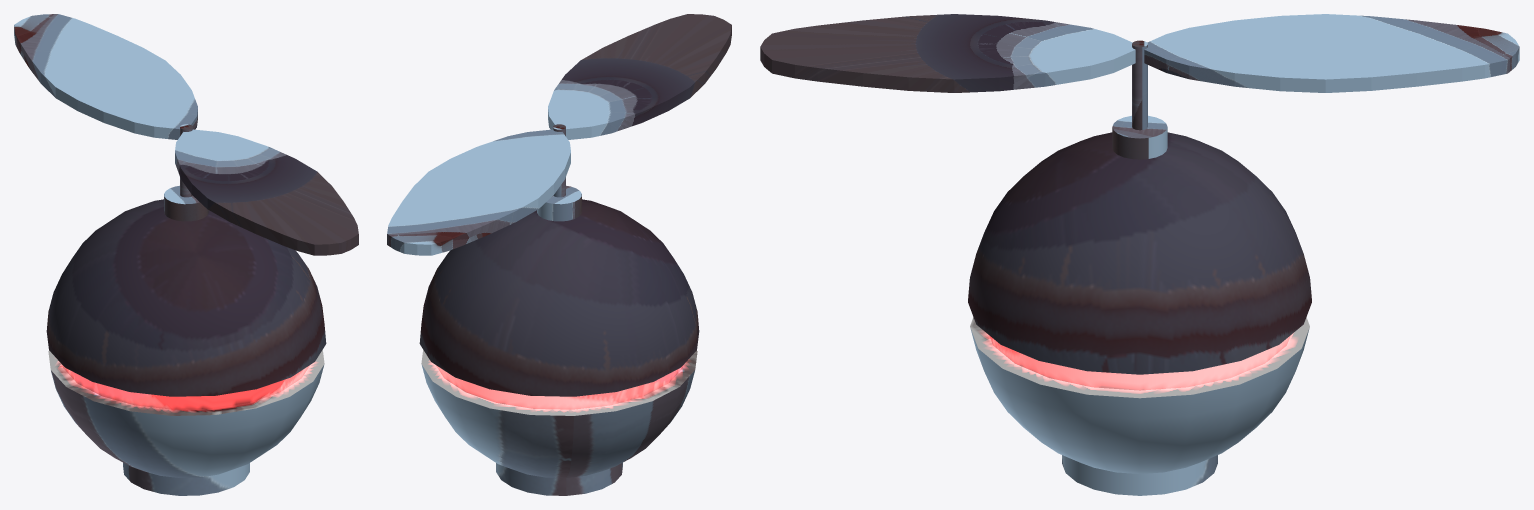
Rendered from Enemy1.gltf.
3 renders of one model, left to right at view 1: azimuth 30°, elevation 25°; view 2: azimuth 150°, elevation 25°; view 3: azimuth 270°, elevation 25°, orthographic. The views are drawn at different scales.
Visible parts, largest first — view 1: Enemy1; view 2: Enemy1; view 3: Enemy1.
Part boxes in pixels (bbox=[...]): Enemy1: bbox=[14, 14, 358, 495]; Enemy1: bbox=[387, 14, 731, 495]; Enemy1: bbox=[760, 14, 1519, 495].
Bounding box in the file's own units: 0.9136 × 1.23 × 2.01.
